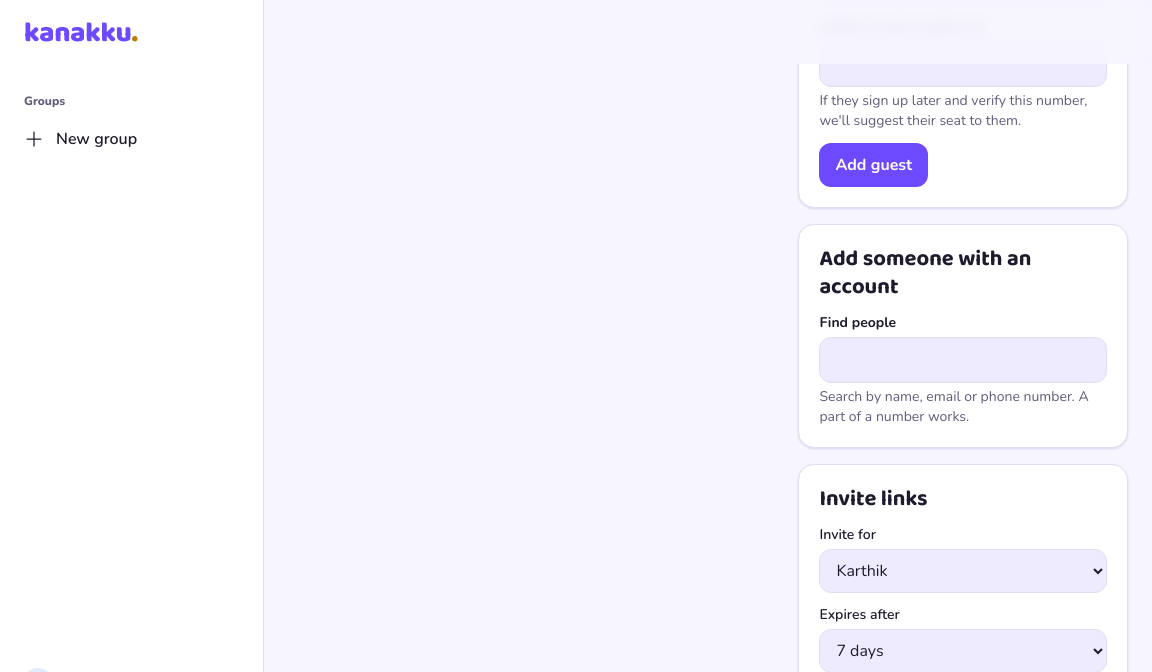
Scenario: MemberPicker › finds by phone from 4 digits and shows only the masked number
This screenshot has width=1152, height=672.
(page scrolled)
Type "987" into the search field labelled "Find people" at coordinates (963, 360), box [820,338,1106,382]
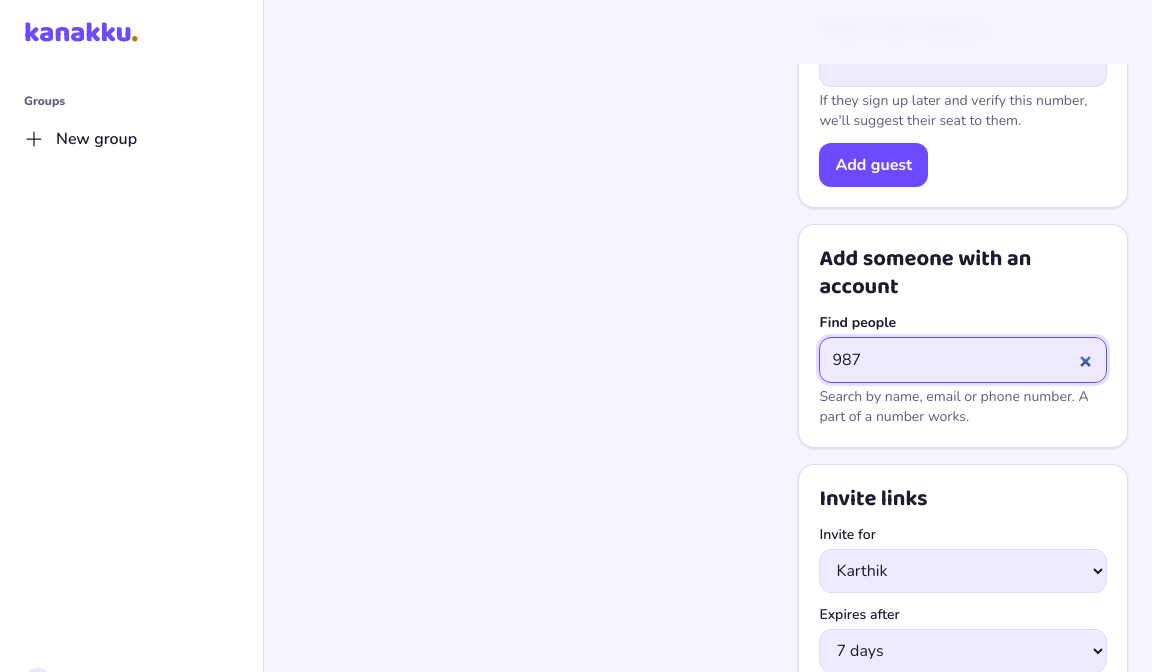
Type "6" into the search field labelled "Find people" at coordinates (963, 360), box [820,338,1106,382]
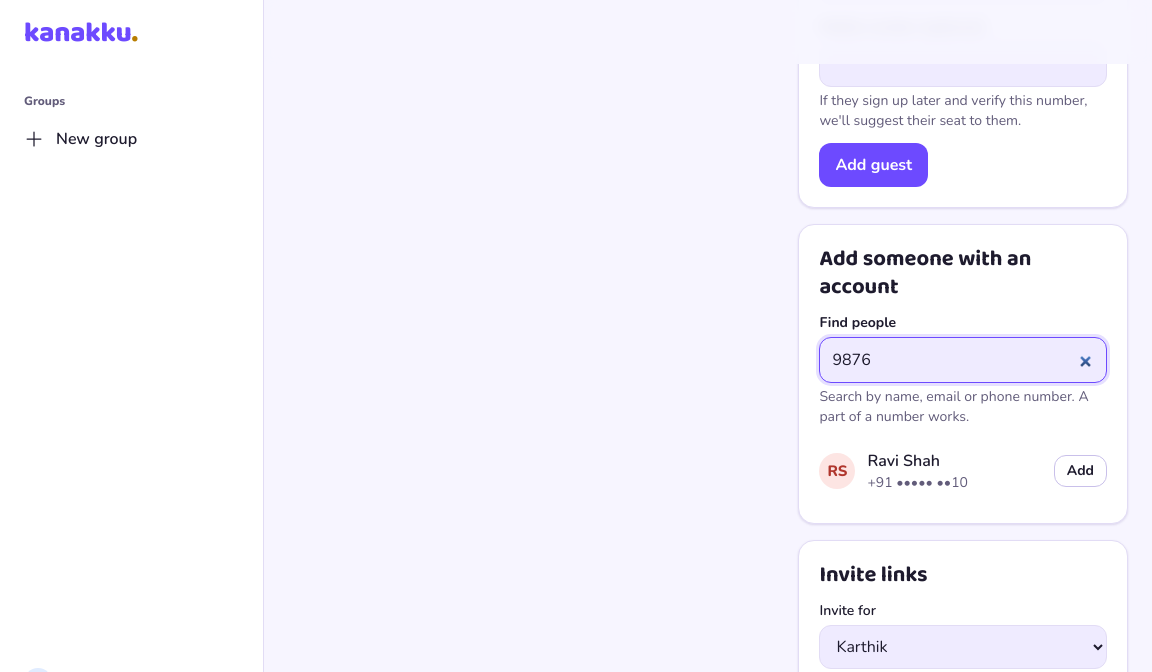
expect the text "Ravi Shah" is shown: met, box [867,450,940,472]
expect the text "+91 ••••• ••10" is shown: met, box [867,473,968,493]
expect the button with aria-label "Add Ravi Shah" is shown: met, box [1054,455,1107,487]
